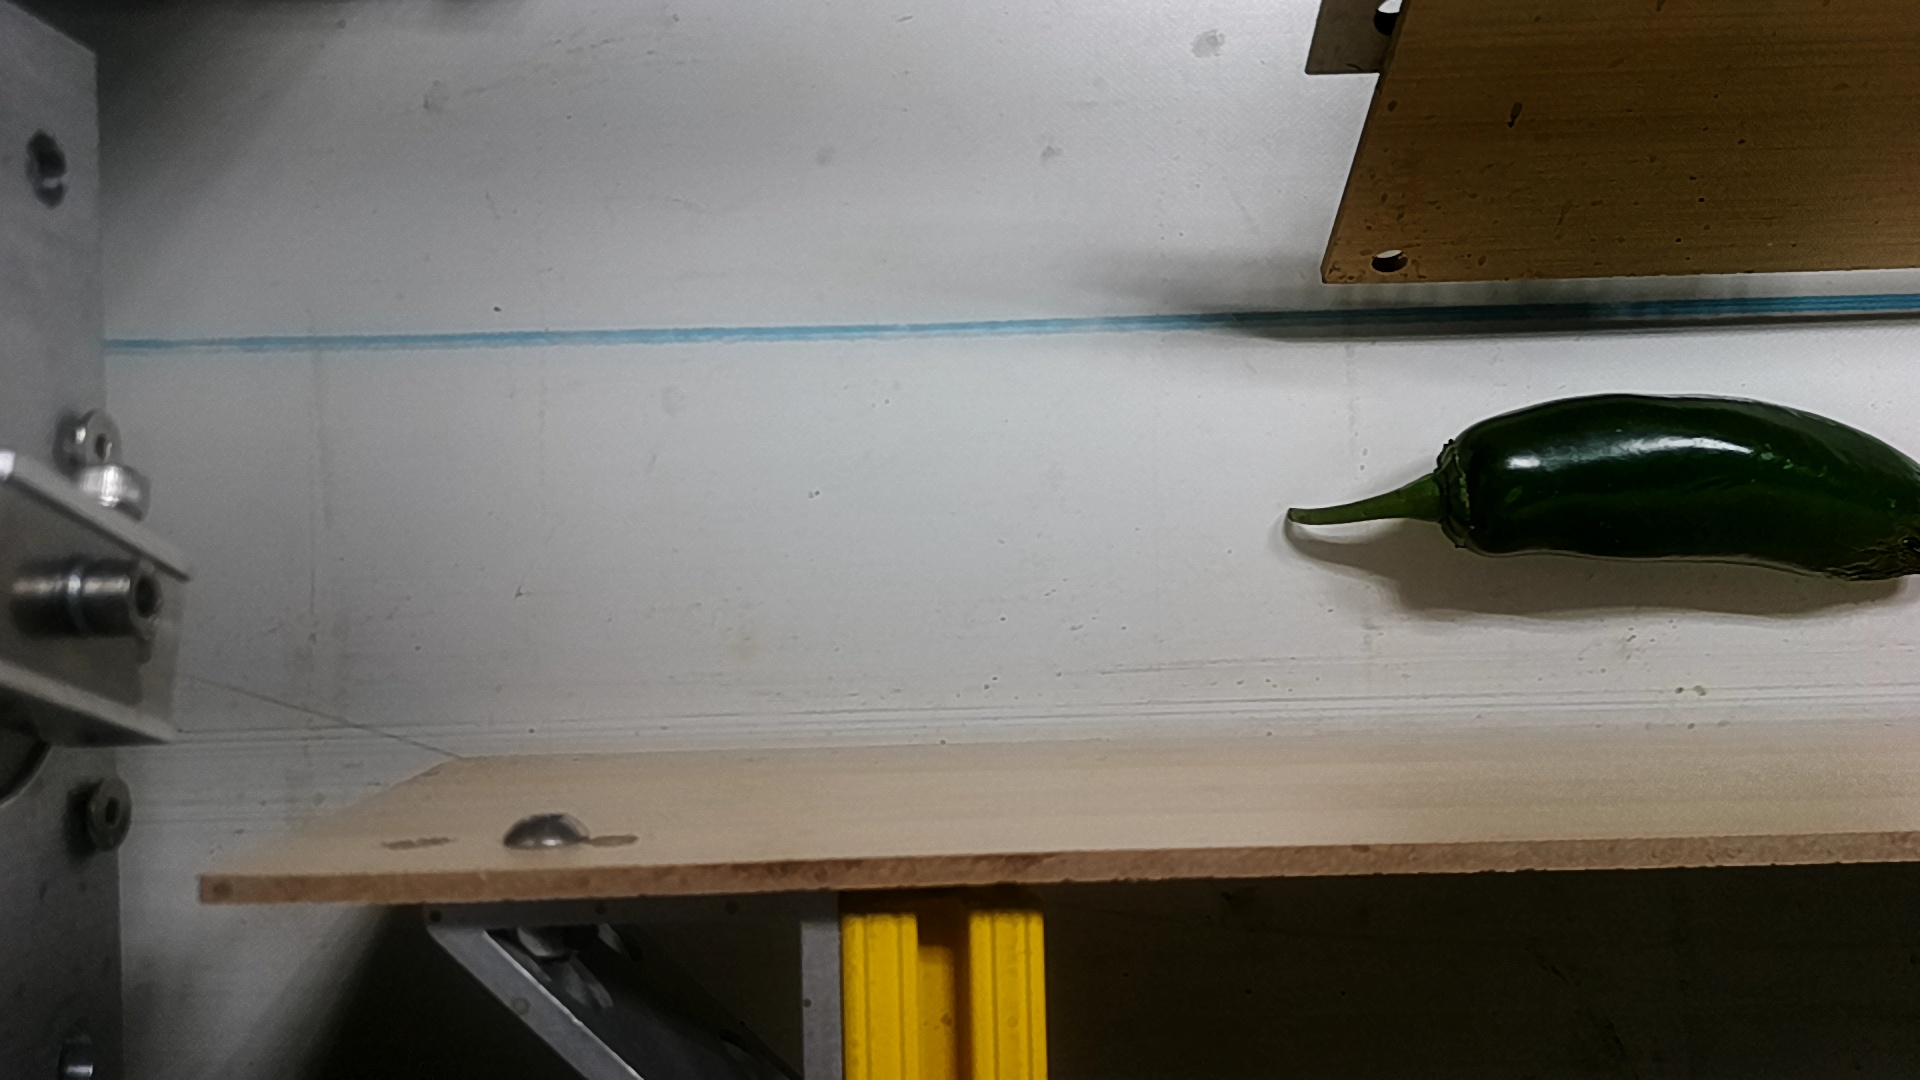Cut Point: (1408, 419, 1516, 555)
